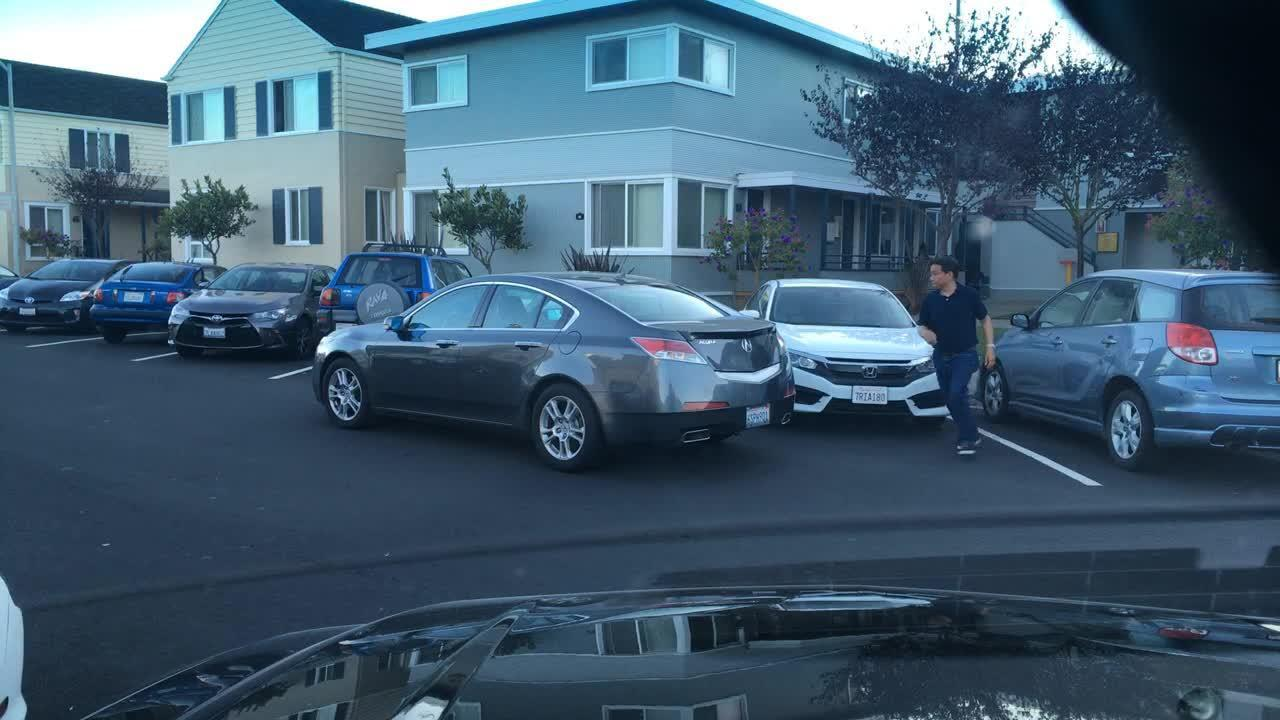acura: (732, 332, 762, 360)
